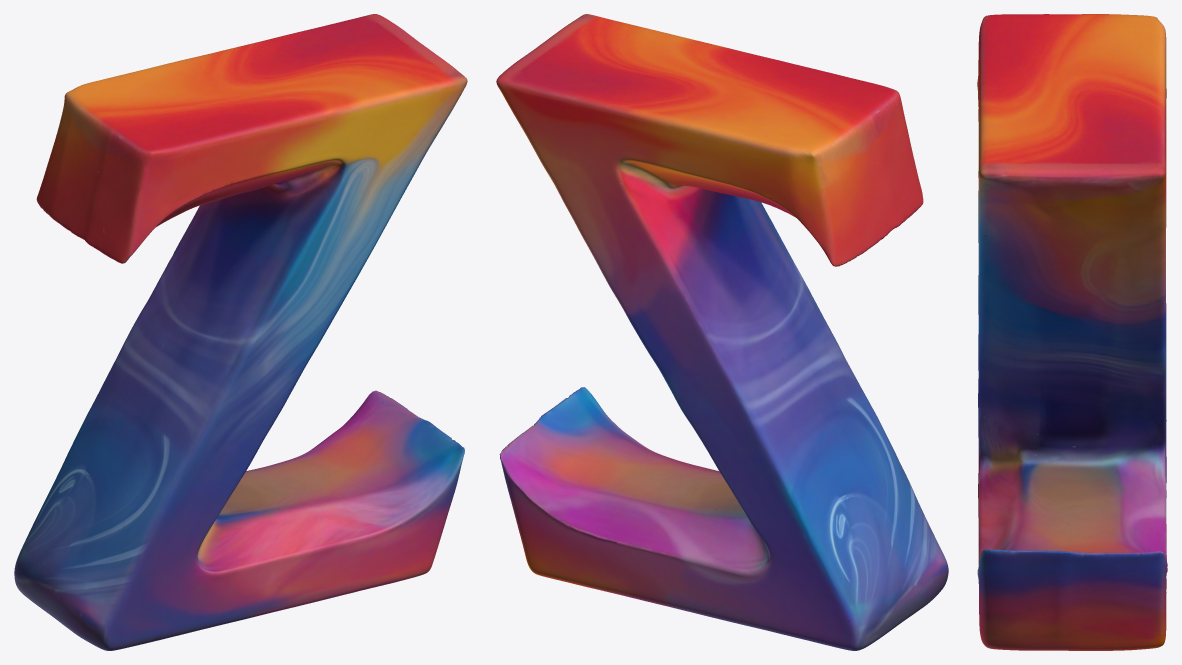
Rendered from Meshy_AI_Creami_il_modello_del_0507174914_texture.glb.
3 renders of one model, left to right at view 1: azimuth 30°, elevation 25°; view 2: azimuth 150°, elevation 25°; view 3: azimuth 270°, elevation 25°, orthographic.
Size of the model in its own units: 1.6 by 2 by 0.6918.
1 material, 1 textured.
